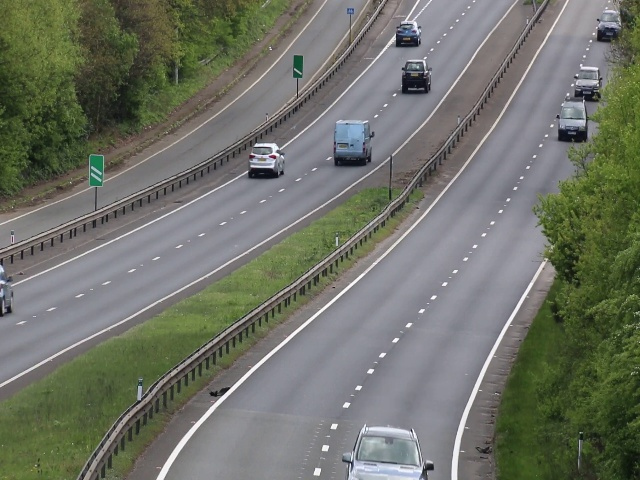car: (344, 424, 428, 480), (332, 117, 376, 167), (248, 140, 286, 182), (398, 56, 435, 95), (558, 99, 588, 144), (574, 65, 602, 102), (595, 10, 624, 42), (395, 18, 423, 47)
